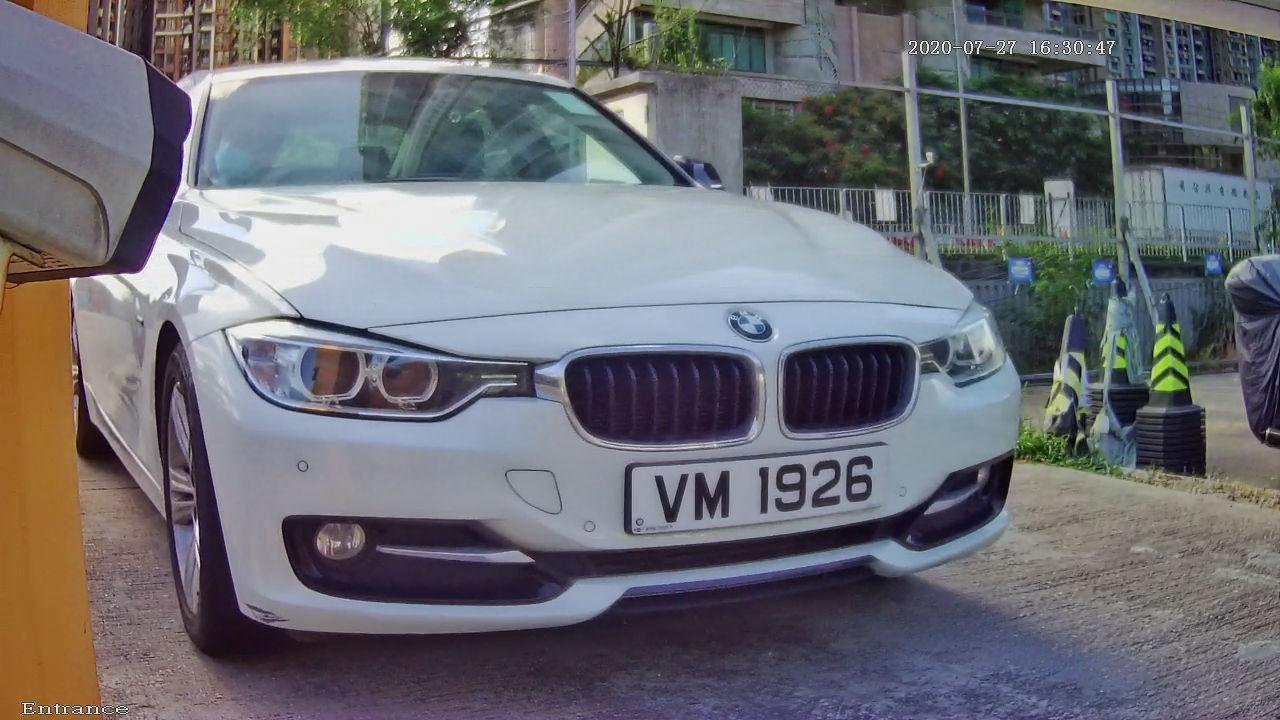privatecar: (69, 23, 1132, 672)
